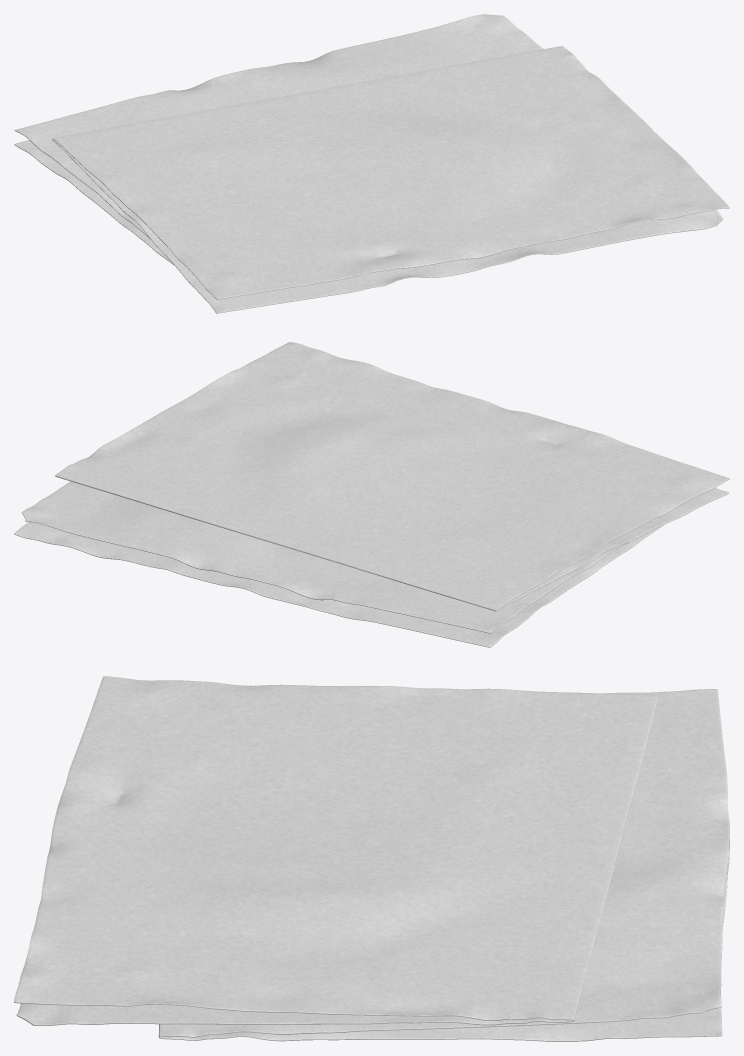
File: gazeta.fbx
3 renders of one model, top to bottom at view 1: azimuth 30°, elevation 25°; view 2: azimuth 150°, elevation 25°; view 3: azimuth 270°, elevation 25°, orthographic. The views are drawn at different scales.
Parts seen in each view (by area): view 1: Gazeta.002, Gazeta.001; view 2: Gazeta.002, Gazeta.001; view 3: Gazeta.002, Gazeta.001.
Boxes of the visible parts, x1,y1,x2,y2 form: Gazeta.002: [52, 46, 729, 313]; Gazeta.001: [14, 14, 543, 264]; Gazeta.002: [55, 342, 729, 611]; Gazeta.001: [14, 481, 664, 647]; Gazeta.002: [14, 676, 658, 1025]; Gazeta.001: [158, 689, 729, 1041].
Size of the model in its own units: 32.8 by 1.67 by 28.62.
